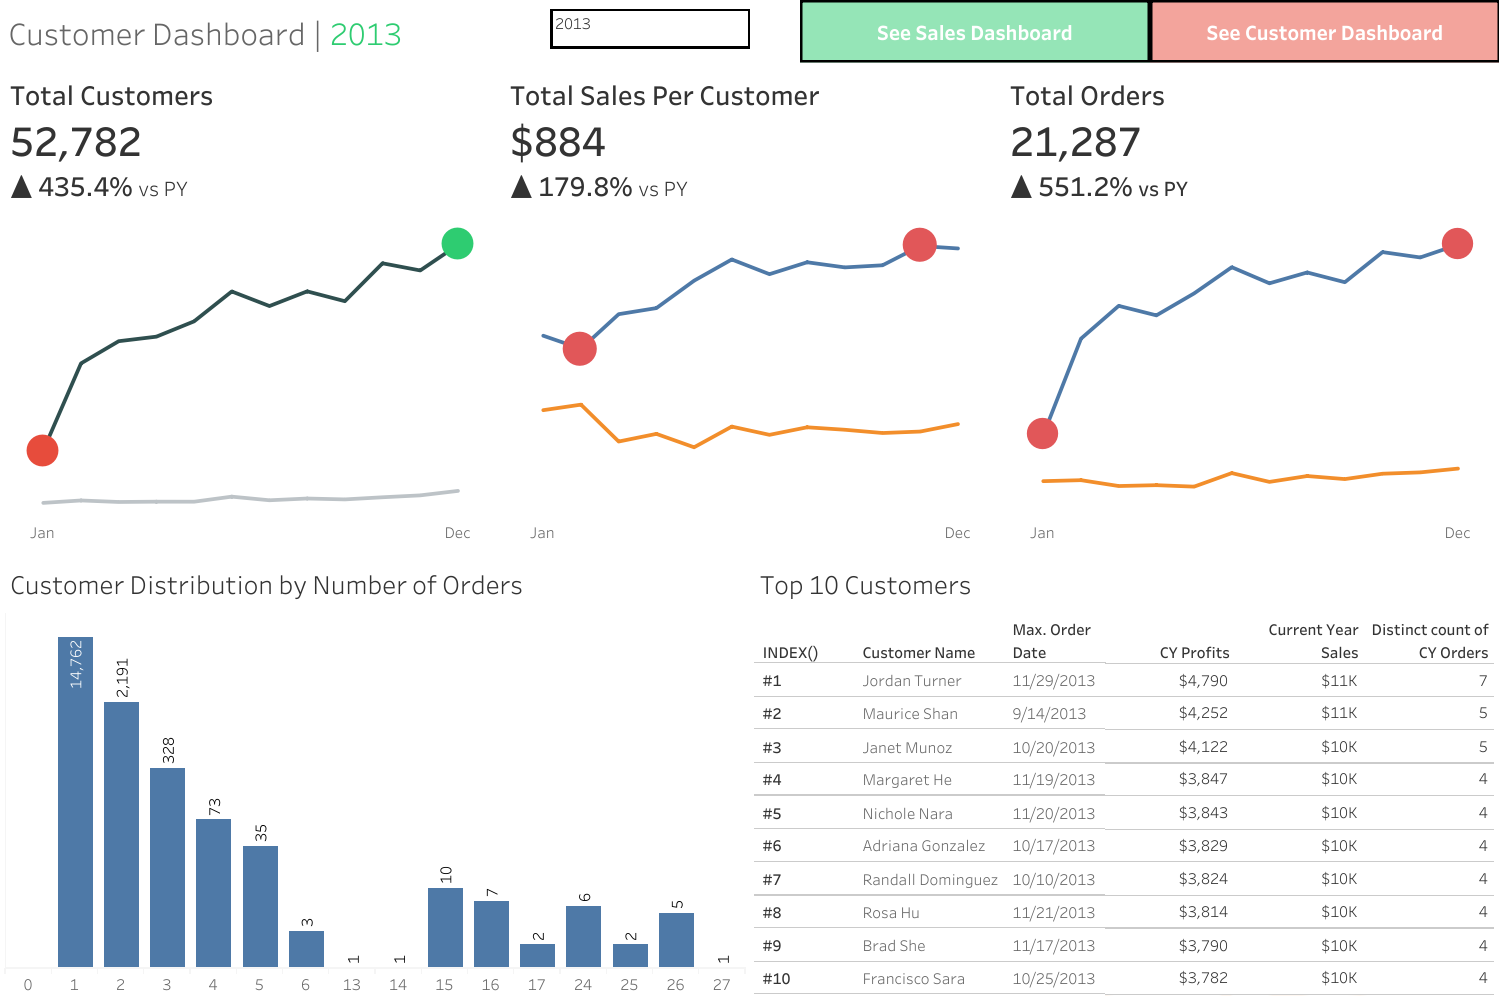

This screenshot's page, from the dashboard's own definition file:
{"tool":"tableau","page":{"name":"Customer Dashboard","canvas":[1200,800],"ordinal":0},"visuals":[{"type":"text","box":[0,0,1200,51]},{"type":"dashboard-object","box":[640,0,280,50]},{"type":"dashboard-object","box":[920,0,280,50]},{"type":"parameter","param":"[Parameters].[Parameter 1]","box":[440,7,160,32]},{"type":"worksheet","title":"Total Customers","mark":"Automatic","rows":["Calculation_2865133851050549284"],"cols":["order_date"],"box":[0,51,400,392]},{"type":"worksheet","title":"Total Sales Per Customer","mark":"Automatic","rows":["Calculation_2865133851066761269"],"cols":["order_date"],"box":[400,51,400,392]},{"type":"worksheet","title":"Total Orders","mark":"Automatic","rows":["Calculation_2865133851056660523"],"cols":["order_date"],"box":[800,51,400,392]},{"type":"worksheet","title":"Customer Distribution by Number of Orders","mark":"Automatic","rows":["Calculation_2865133851046830110"],"cols":["Calculation_2865133851069816890"],"box":[0,443,600,357]},{"type":"worksheet","title":"Top 10 Customers","mark":"Automatic","rows":["Calculation_2865133851073851453","customer_name","order_date"],"box":[600,443,600,357]}]}

Visuals, with their boxes in screenshot pixels (x1, y1, x2, y2), scaled from the page's 1200x800 canvas onto the 1499x999 screenshot:
text: 0:0:1498:64
dashboard-object: 799:0:1149:62
dashboard-object: 1149:0:1498:62
parameter: 550:9:750:49
"Total Customers" worksheet: 0:64:500:553
"Total Sales Per Customer" worksheet: 500:64:999:553
"Total Orders" worksheet: 999:64:1498:553
"Customer Distribution by Number of Orders" worksheet: 0:553:750:998
"Top 10 Customers" worksheet: 750:553:1498:998
